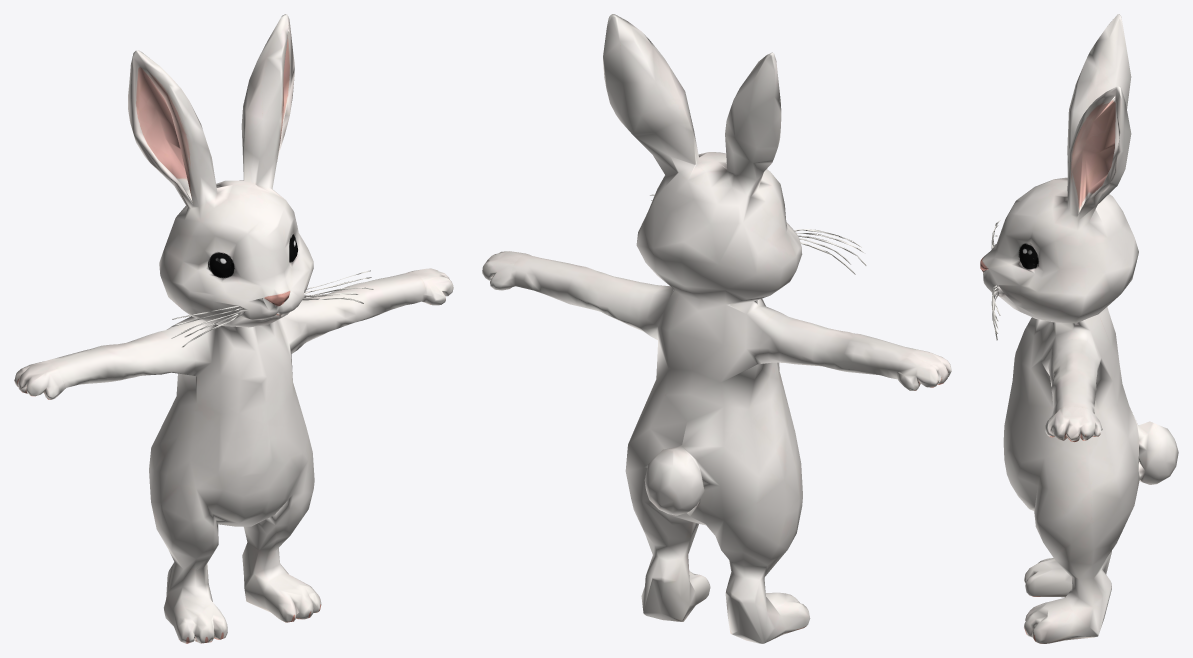
Rendered from rabbit-arms.glb.
3 views of the same model, side by side, from view 1: azimuth 30°, elevation 25°; view 2: azimuth 150°, elevation 25°; view 3: azimuth 270°, elevation 25° (orthographic). The views are drawn at different scales.
Parts seen in each view (by area): view 1: rabbit; view 2: rabbit; view 3: rabbit.
Boxes of the visible parts, left/top/right/bottom form: rabbit: left=14, top=14, right=453, bottom=643; rabbit: left=482, top=14, right=951, bottom=643; rabbit: left=980, top=14, right=1178, bottom=643.
Size of the model in its own units: 1.51 by 1.9 by 0.6085.
1 material, 1 textured.
